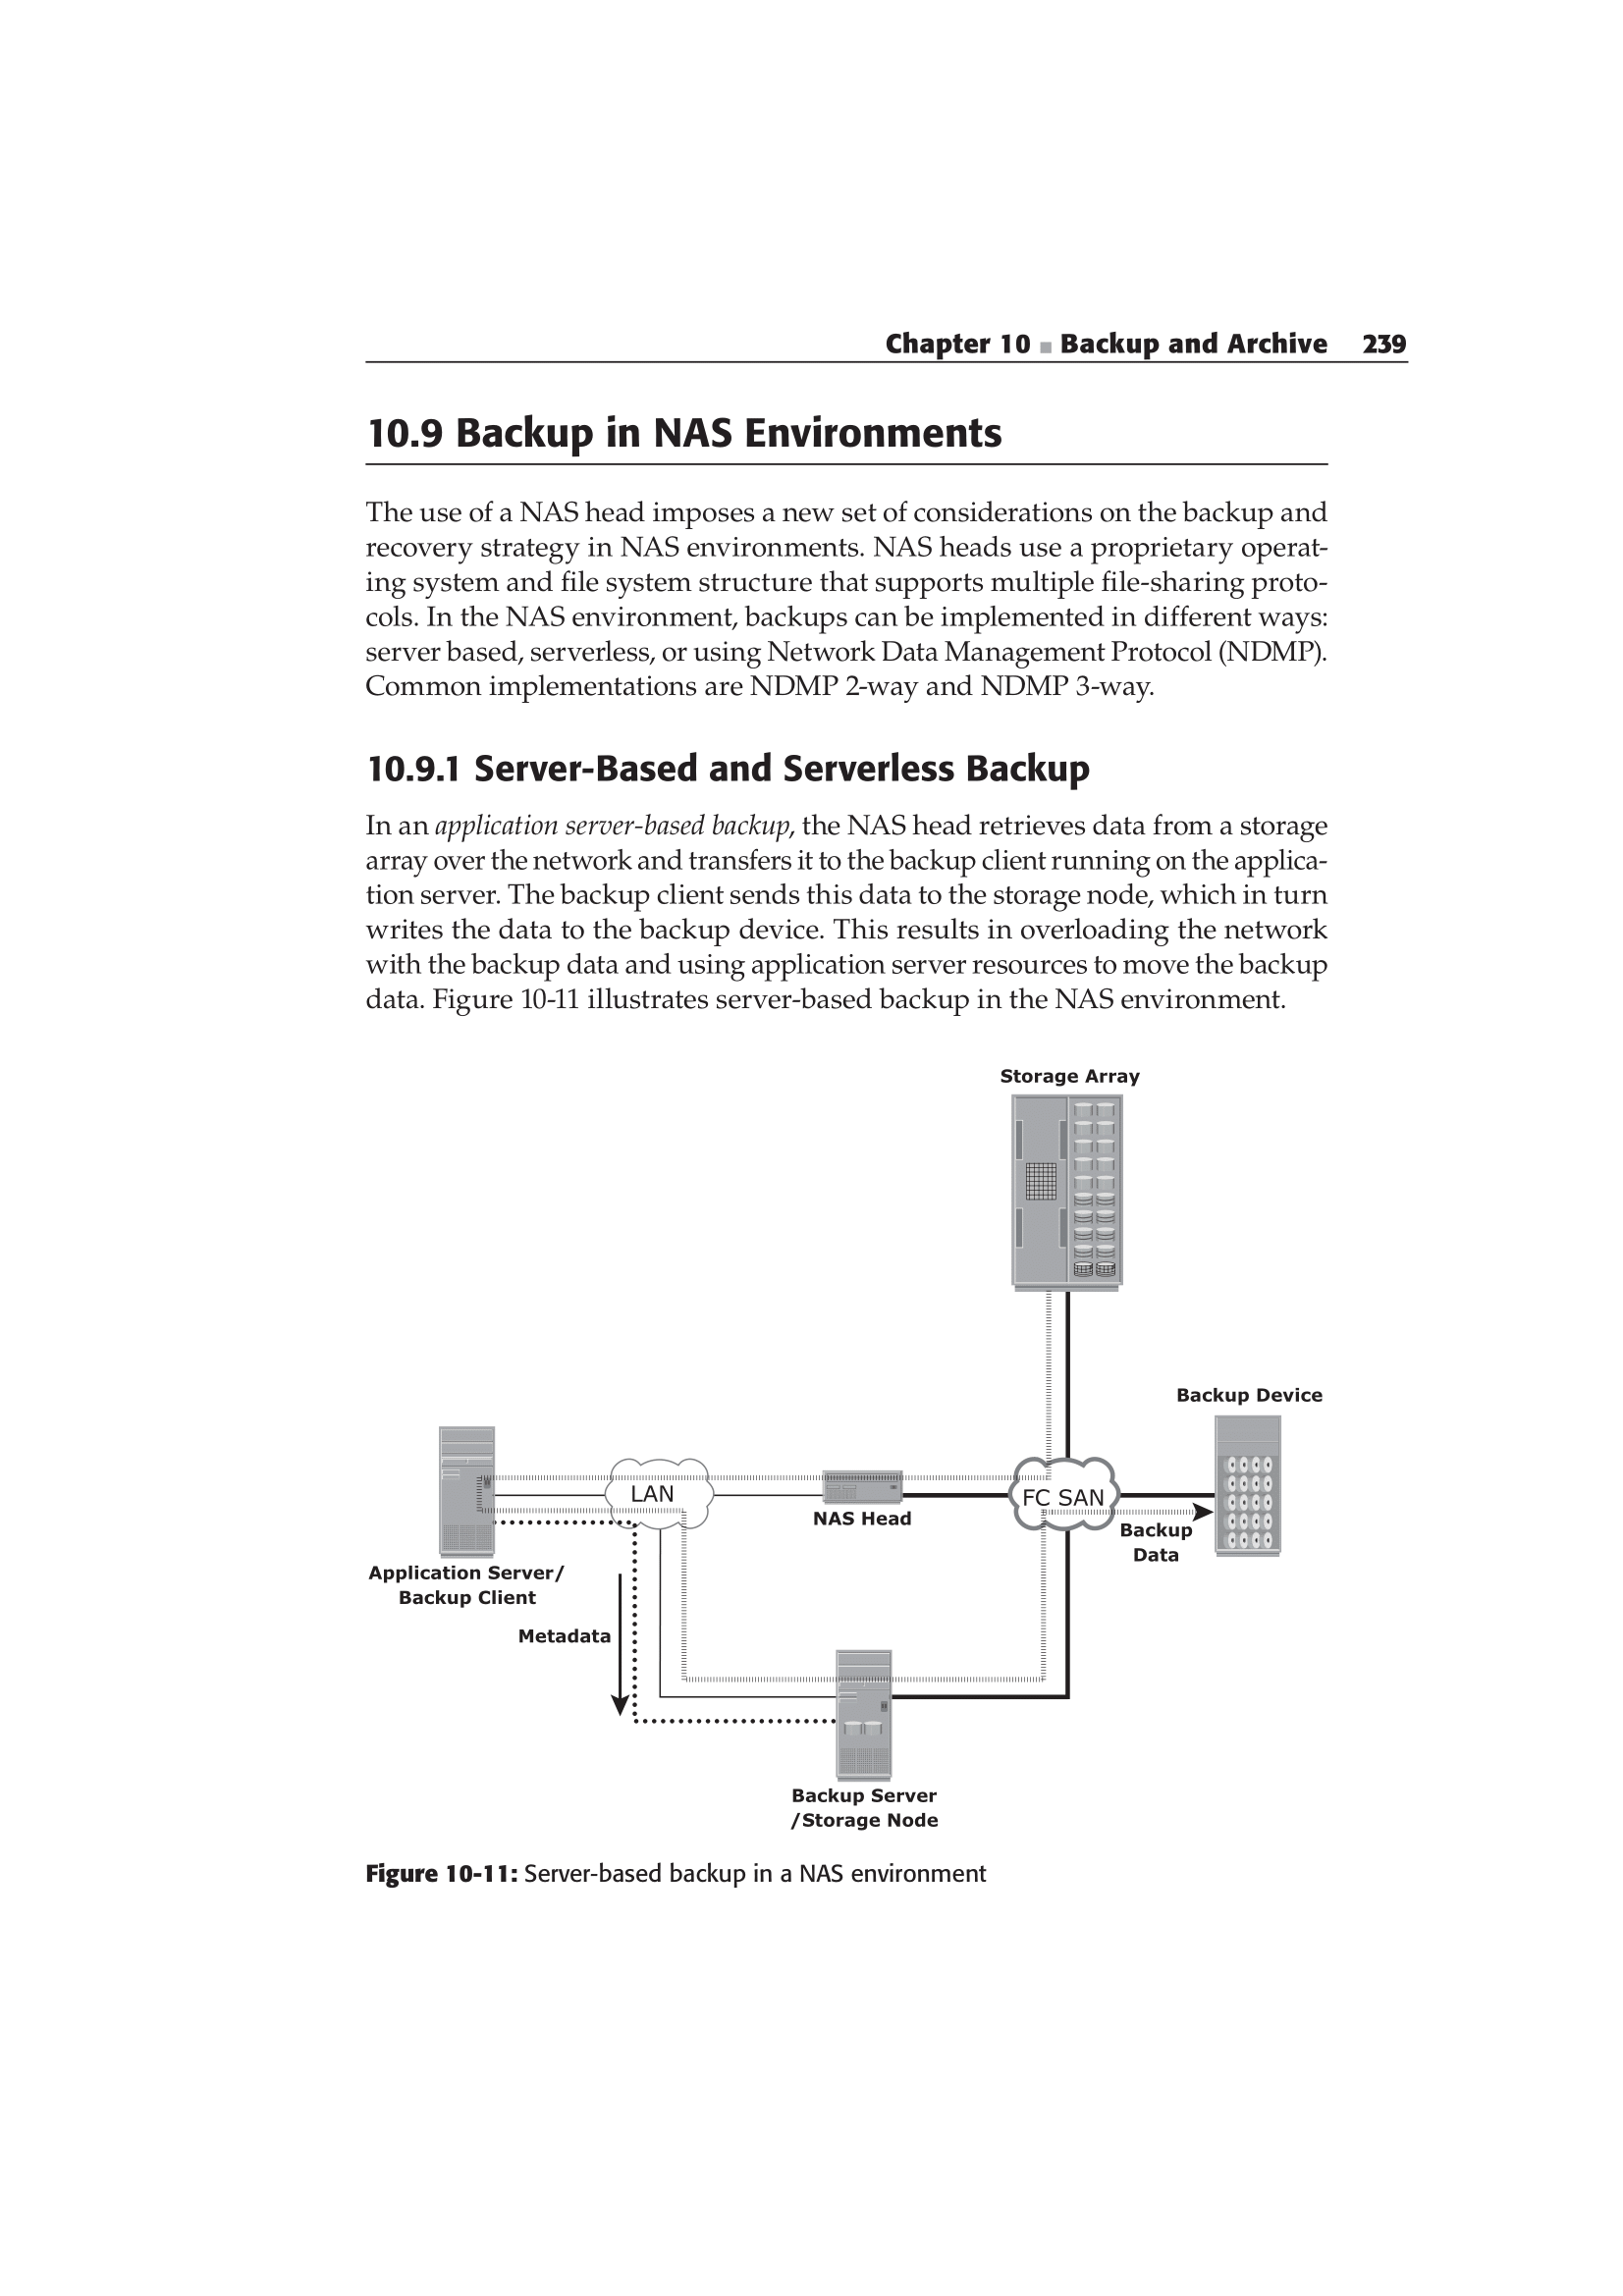Image: (318, 1055, 1330, 1833)
Paragraph: (285, 486, 1470, 704), (248, 809, 1391, 1027), (834, 302, 1521, 393), (290, 390, 1064, 469), (302, 728, 1324, 788), (297, 1864, 1068, 1906)
